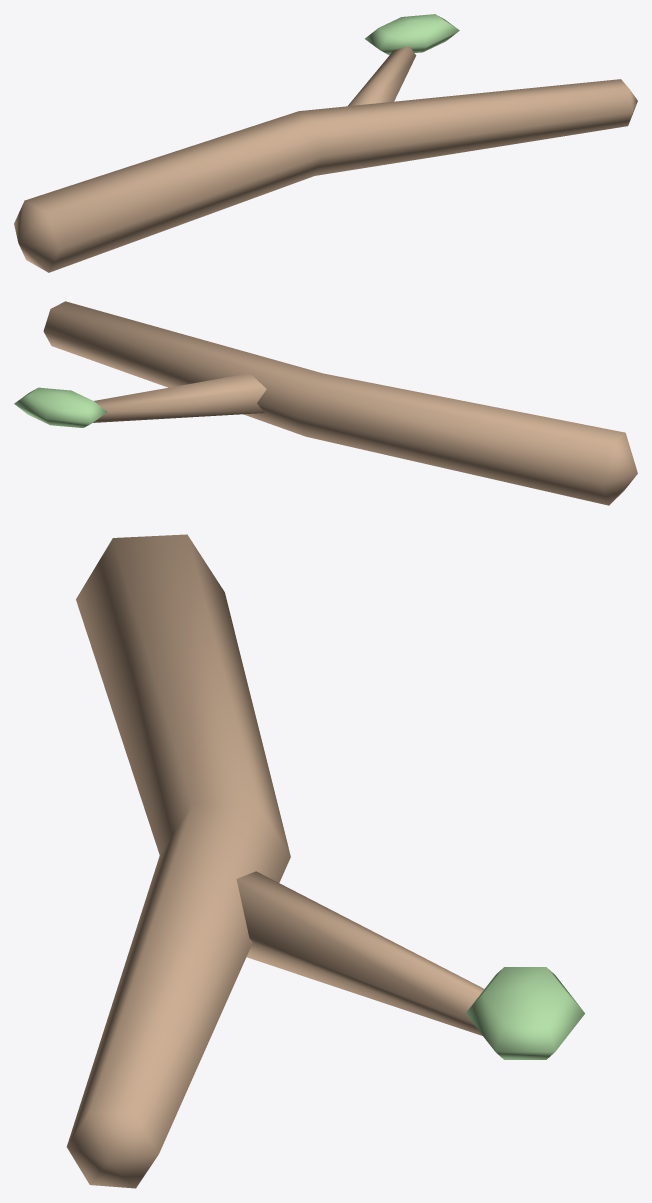
Rendered from item_branch.glb.
3 renders of one model, top to bottom at view 1: azimuth 30°, elevation 25°; view 2: azimuth 150°, elevation 25°; view 3: azimuth 270°, elevation 25°, orthographic. The views are drawn at different scales.
Parts seen in each view (by area): view 1: item_branch; view 2: item_branch; view 3: item_branch.
Part boxes in pixels (box(x1,y1,x2,y2)): item_branch: box(14, 14, 637, 272); item_branch: box(14, 301, 637, 505); item_branch: box(66, 534, 584, 1188).
Bounding box in the file's own units: 0.7386 × 0.0749 × 0.2766.
